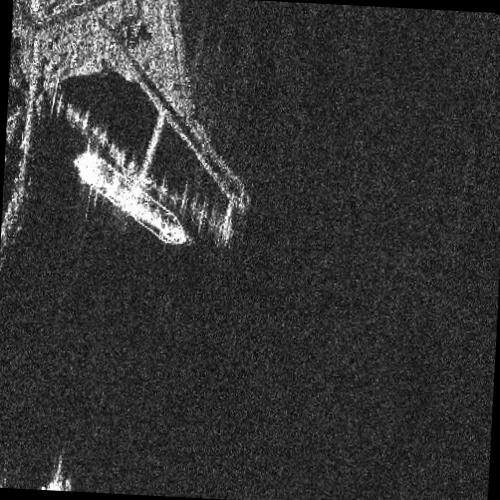ship: (72, 149, 187, 246)
